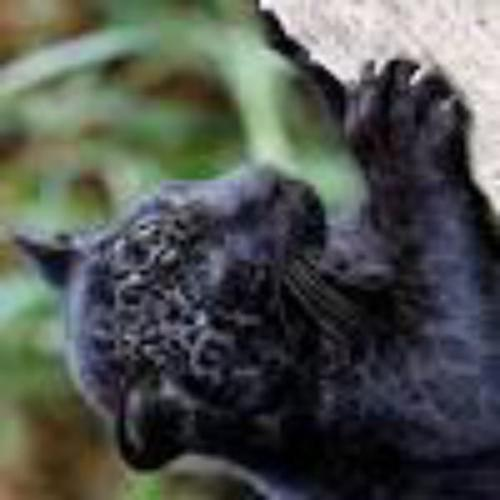panther-endangered: (58, 148, 500, 479)
